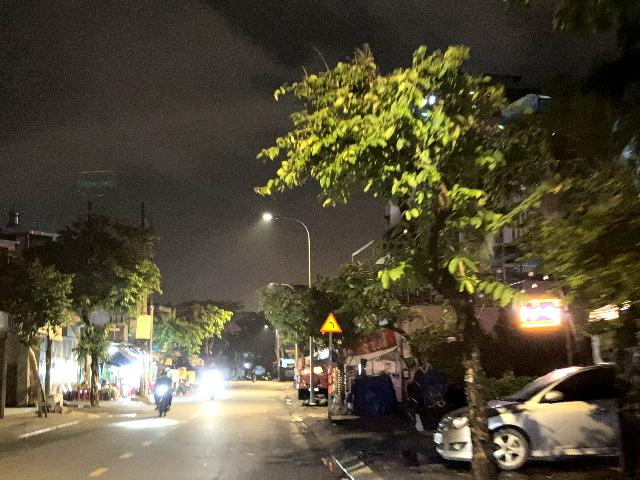cho-ngoat-nguy-hiem-ben-trai: (320, 312, 342, 333)
